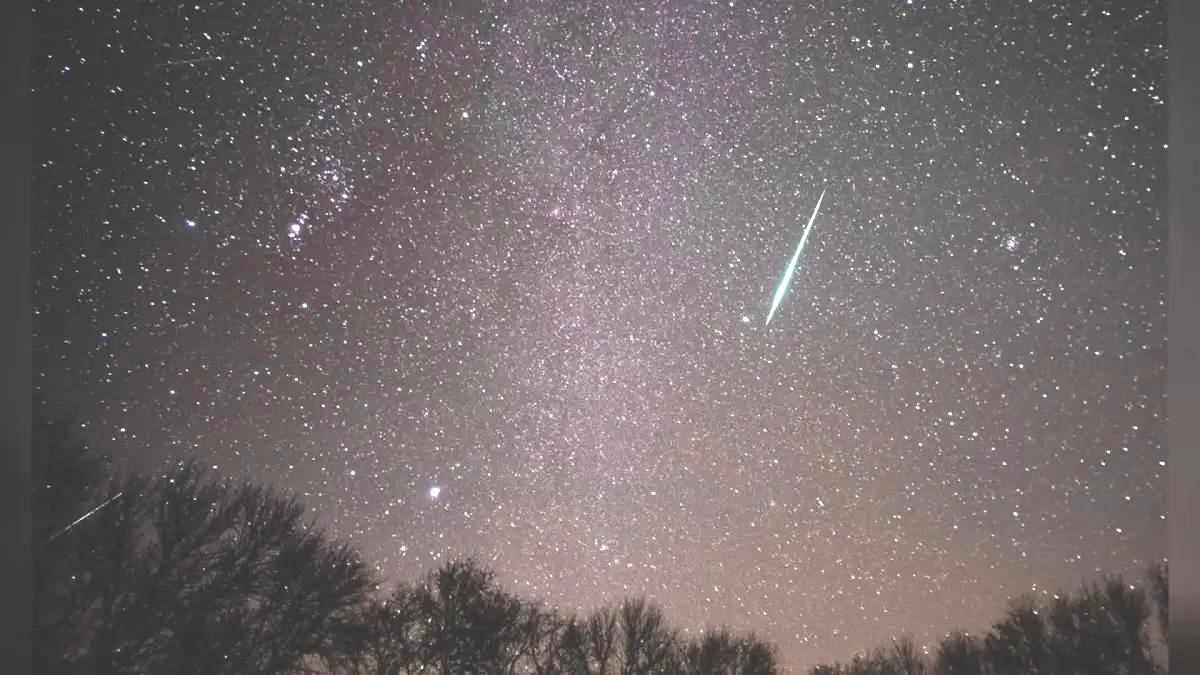meteorite: (750, 146, 856, 349), (40, 486, 131, 544)
